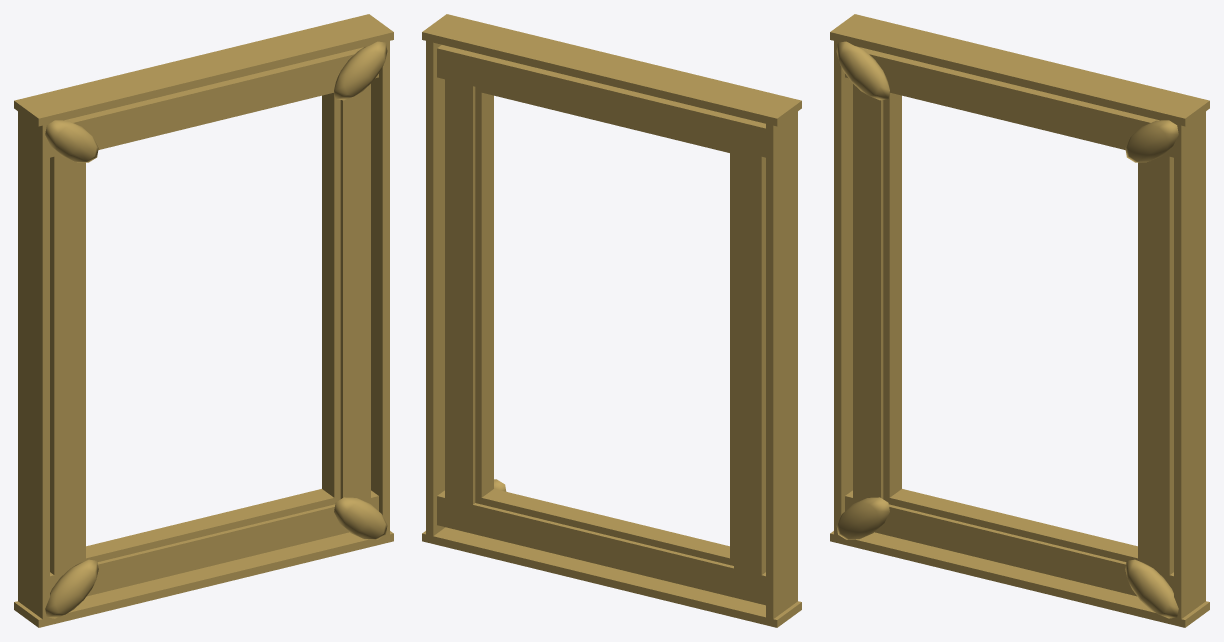
File: frame.glb
The picture shows the model from 3 angles, left to right: view 1: azimuth 30°, elevation 25°; view 2: azimuth 150°, elevation 25°; view 3: azimuth 330°, elevation 25°; orthographic projection.
Parts seen in each view (by area): view 1: Gilded portrait frame; view 2: Gilded portrait frame; view 3: Gilded portrait frame.
Part boxes in pixels (bbox=[...]): Gilded portrait frame: bbox=[14, 14, 393, 627]; Gilded portrait frame: bbox=[422, 14, 801, 627]; Gilded portrait frame: bbox=[830, 14, 1209, 627].
Size of the model in its own units: 1.66 by 2.28 by 0.255.
